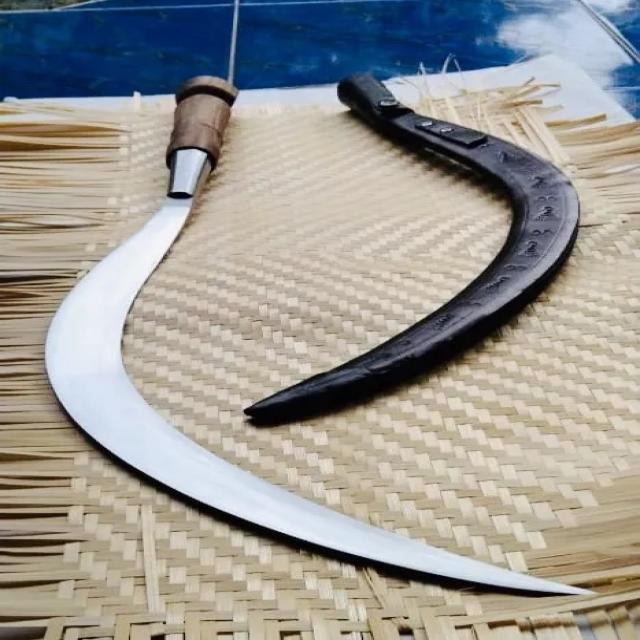Celurit: (46, 76, 608, 606)
